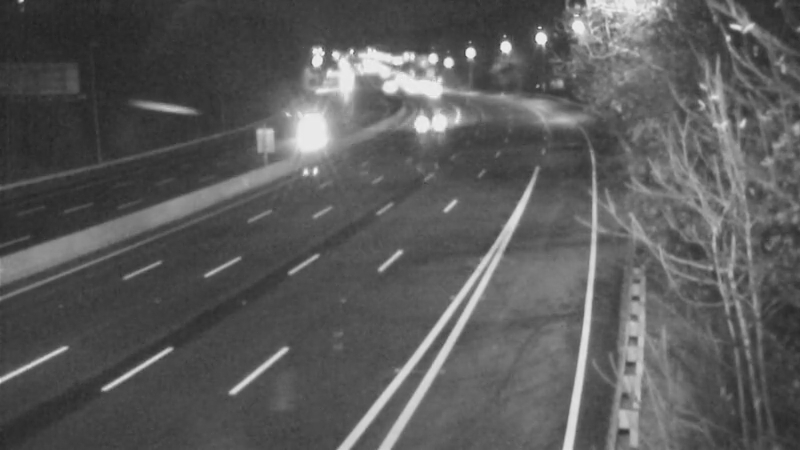vehicle: (394, 95, 444, 145), (281, 111, 331, 161)
